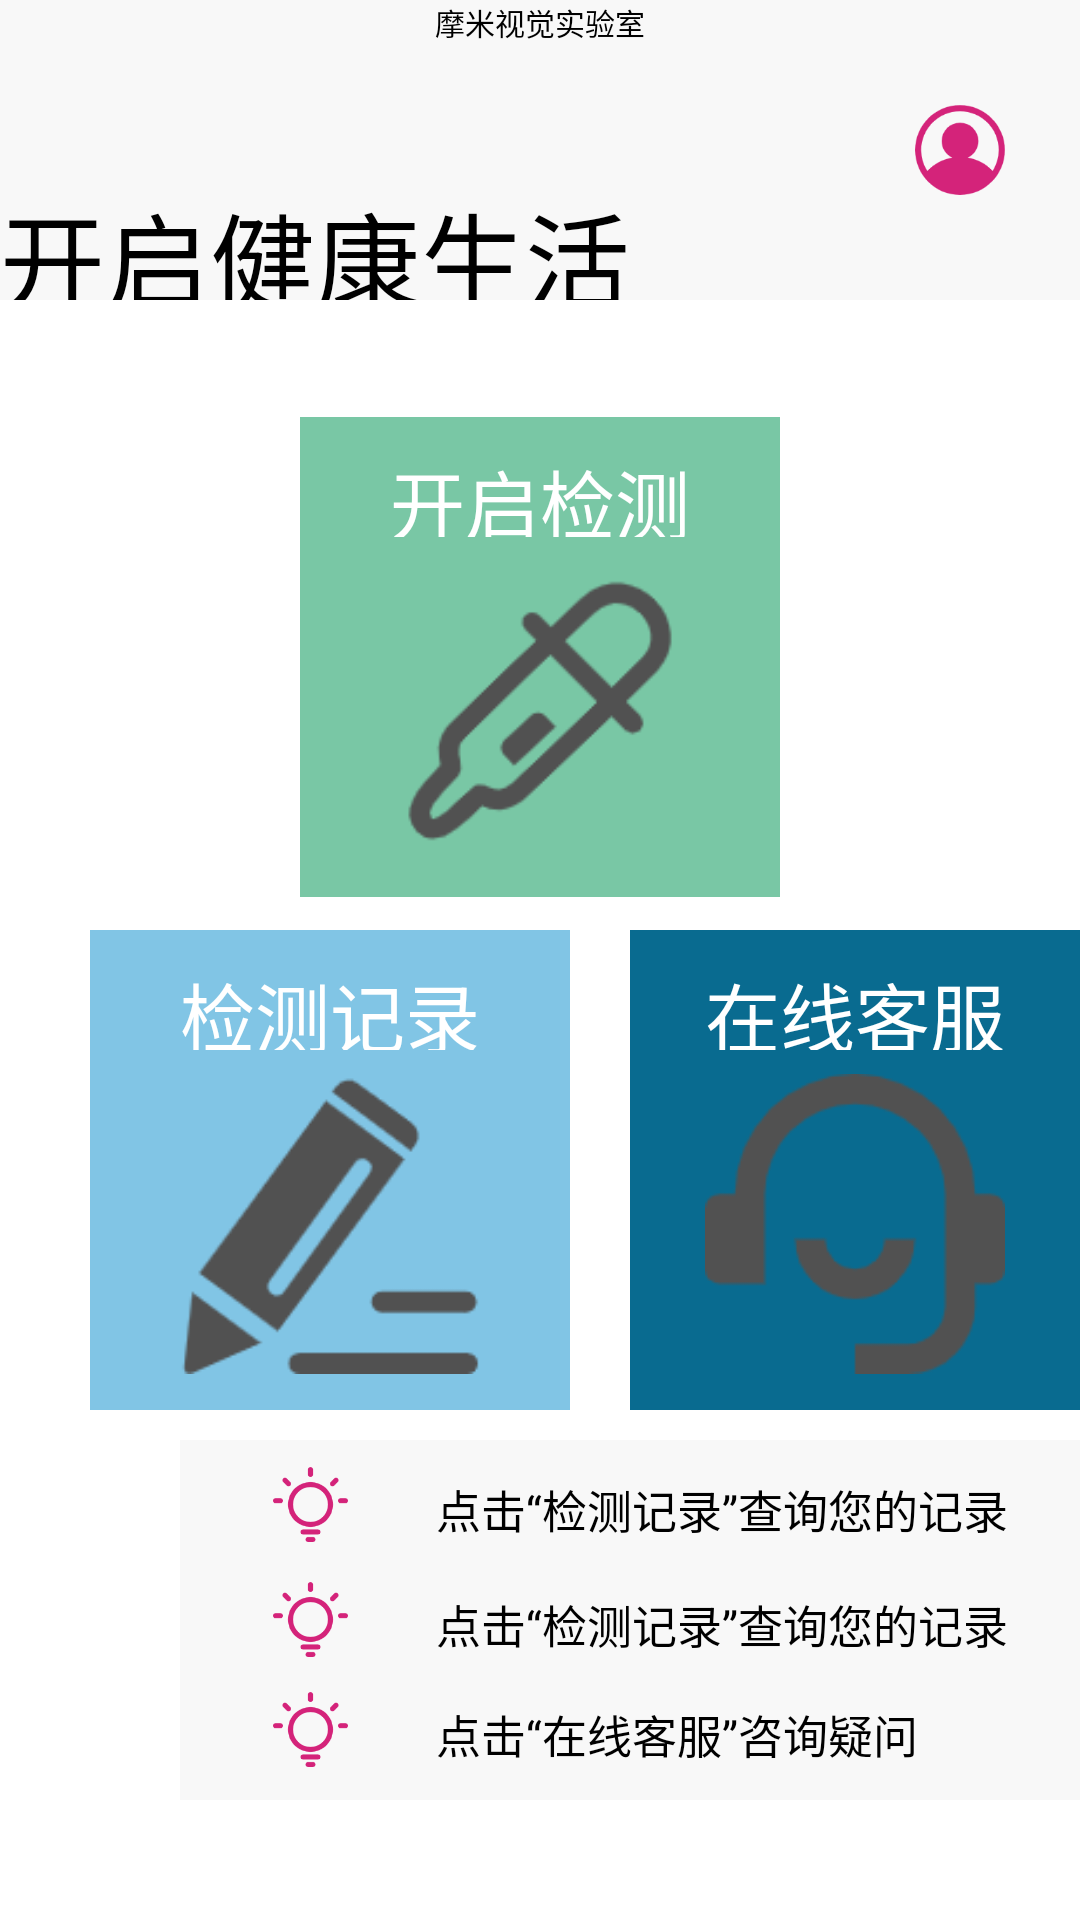

Locate icon controls on the screen. Image size 1080px×1920px, boxes as (x1, y1, x2, y2).
head: (915, 105, 1005, 195)
